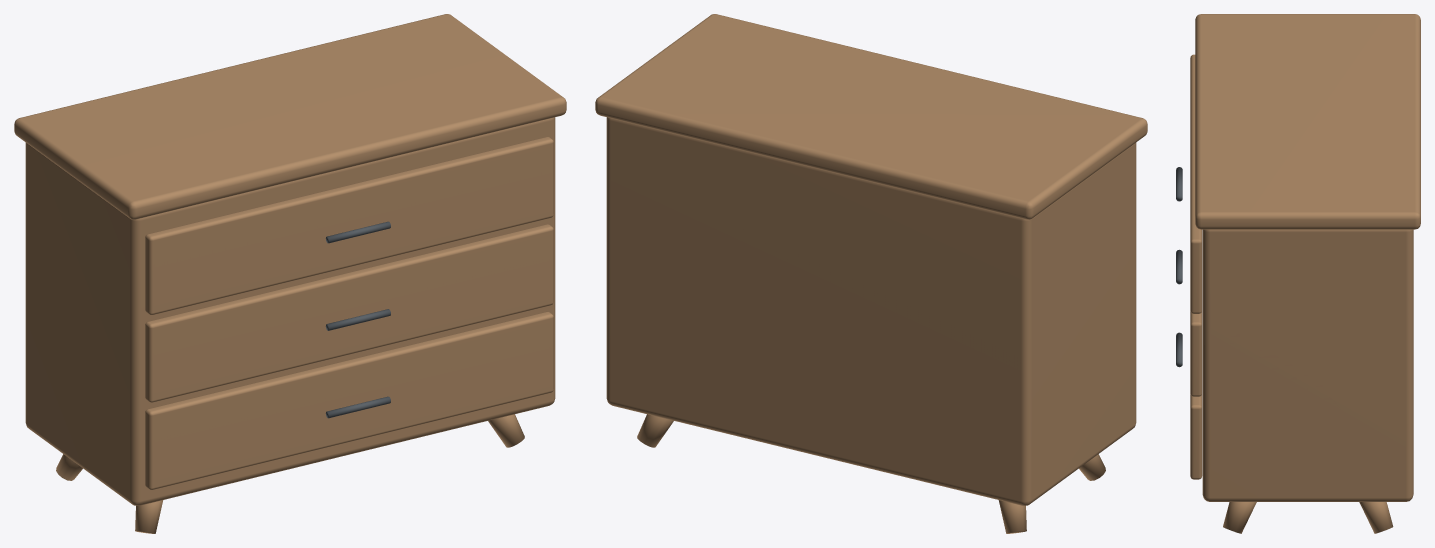
File: atelier-nursery-dresser.glb
3 renders of one model, left to right at view 1: azimuth 30°, elevation 25°; view 2: azimuth 150°, elevation 25°; view 3: azimuth 270°, elevation 25°, orthographic. The views are drawn at different scales.
Parts seen in each view (by area): view 1: legs.181, metal.166; view 2: legs.181; view 3: legs.181, metal.166.
Part boxes in pixels (x1,y1,x2,y2): legs.181: (14, 14, 566, 533); metal.166: (325, 221, 390, 418); legs.181: (595, 14, 1147, 533); legs.181: (1190, 14, 1420, 533); metal.166: (1176, 167, 1182, 367).
Bounding box in the file's own units: 1.14 × 0.8793 × 0.5805.
